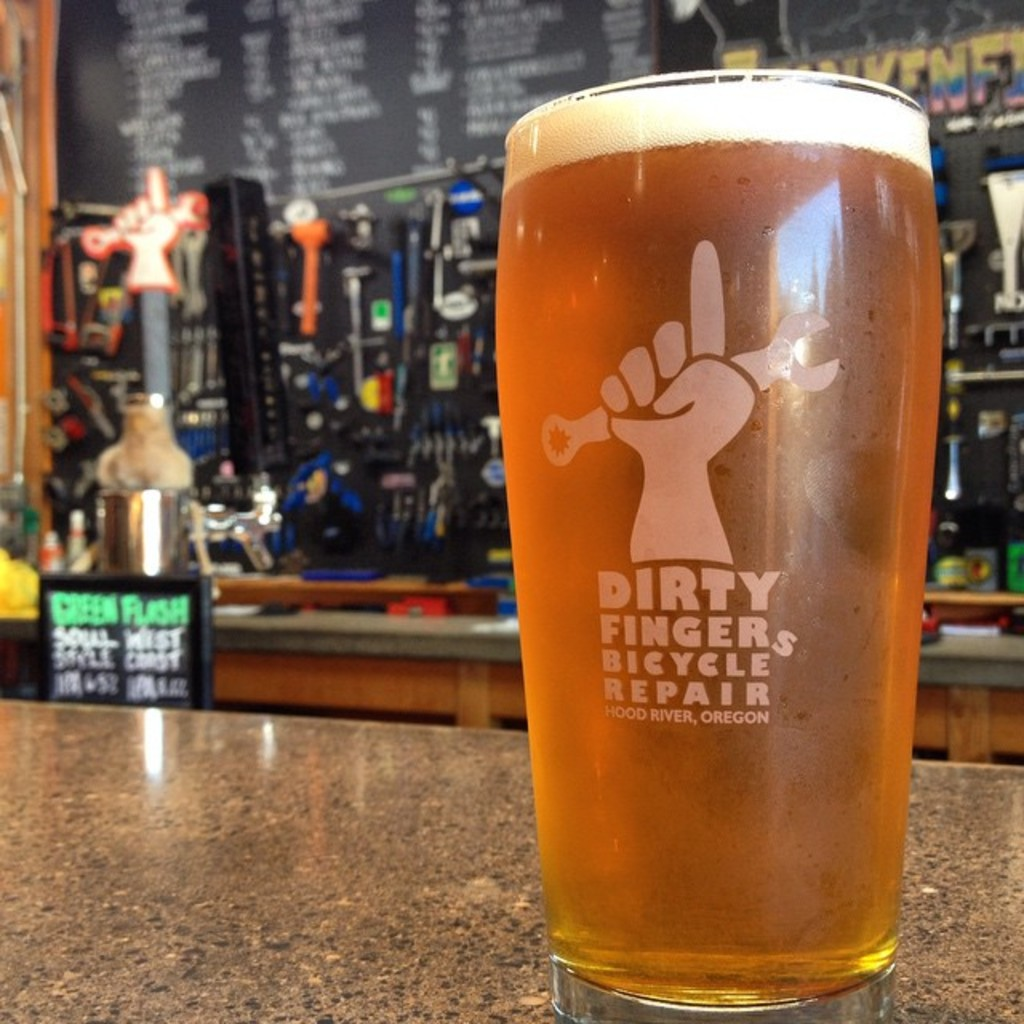Beer: (484, 67, 958, 1022)
